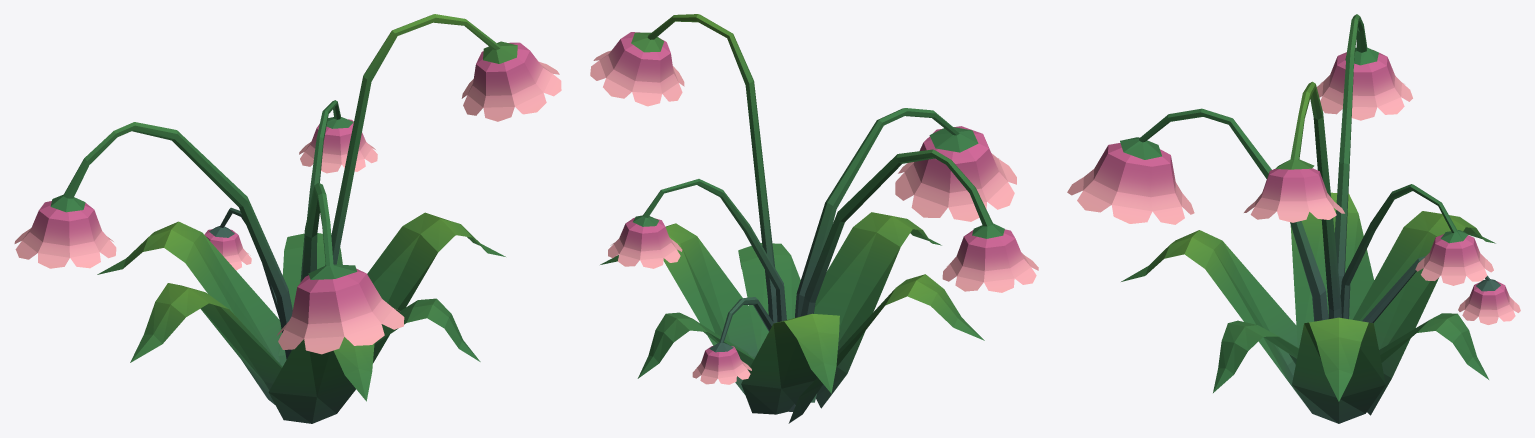
Rendered from rosa-1.glb.
3 renders of one model, left to right at view 1: azimuth 30°, elevation 25°; view 2: azimuth 150°, elevation 25°; view 3: azimuth 270°, elevation 25°, orthographic. The views are drawn at different scales.
Parts seen in each view (by area): view 1: Flower.002; view 2: Flower.002; view 3: Flower.002.
Part boxes in pixels (x1=…): Flower.002: x1=14, y1=14, x2=561, y2=423; Flower.002: x1=590, y1=14, x2=1038, y2=423; Flower.002: x1=1067, y1=14, x2=1520, y2=423.
Bounding box in the file's own units: 3.25 × 2.35 × 2.63.
Materials: 1 (1 with a texture image).
